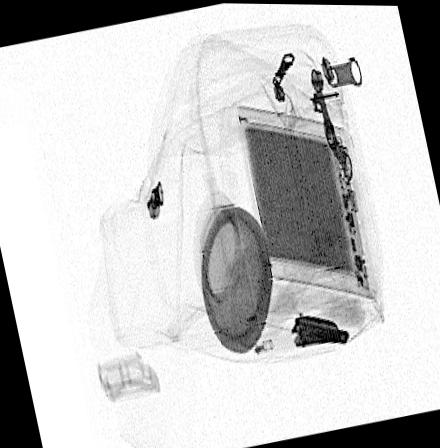Powerbank: (235, 108, 377, 298)
